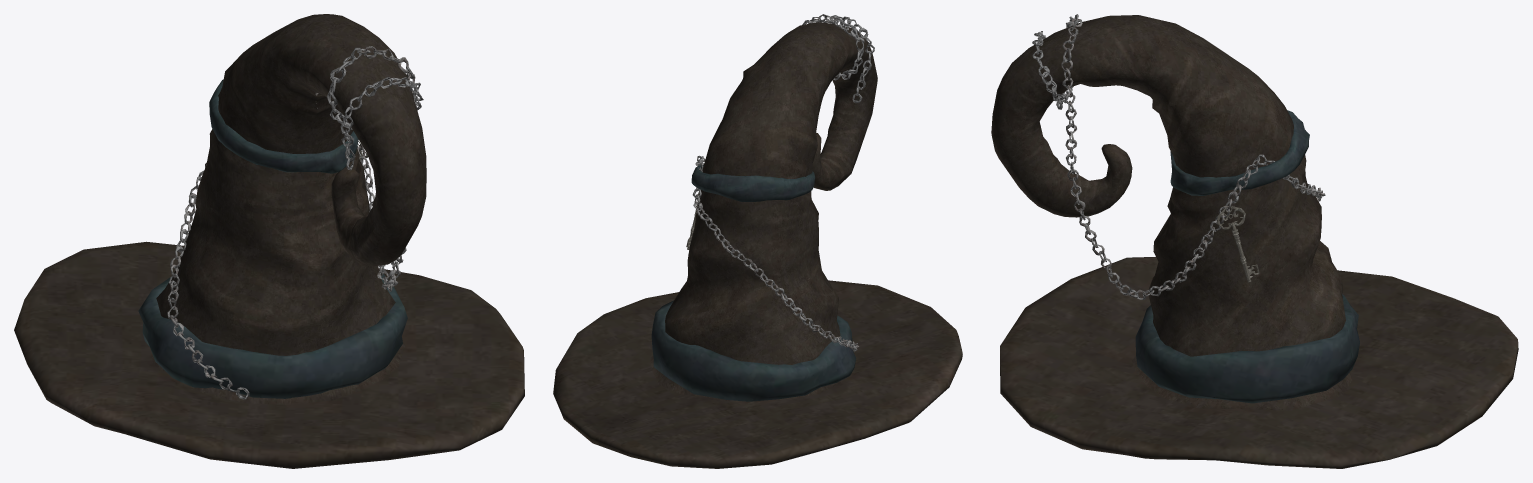
The model's file is wizard.glb.
The picture shows the model from 3 angles, left to right: view 1: azimuth 30°, elevation 25°; view 2: azimuth 150°, elevation 25°; view 3: azimuth 270°, elevation 25°; orthographic projection. The views are drawn at different scales.
Parts seen in each view (by area): view 1: defaultMaterial; view 2: defaultMaterial; view 3: defaultMaterial.
Boxes of the visible parts, bbox=[...] form: defaultMaterial: bbox=[14, 14, 524, 468]; defaultMaterial: bbox=[553, 14, 962, 468]; defaultMaterial: bbox=[991, 14, 1518, 468].
Bounding box in the file's own units: 1.72 × 1.54 × 2.
1 material, 1 textured.
